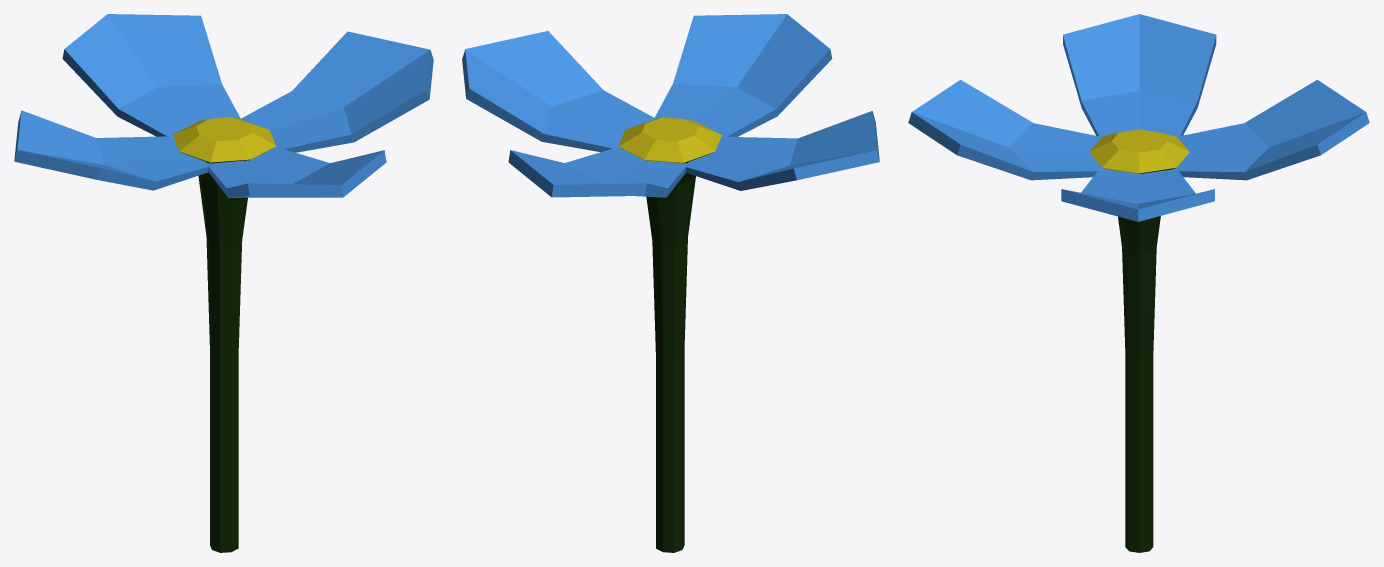
Rendered from flower1.fbx.
3 renders of one model, left to right at view 1: azimuth 30°, elevation 25°; view 2: azimuth 150°, elevation 25°; view 3: azimuth 270°, elevation 25°, orthographic. The views are drawn at different scales.
Parts seen in each view (by area): view 1: Plane.001, Cube.043, Cube.044, Cube.045, Cube.046; view 2: Plane.001, Cube.046, Cube.044, Cube.045, Cube.043; view 3: Cube.045, Plane.001, Cube.046, Cube.043, Cube.044.
Part boxes in pixels (x1,y1,x2,y2): Plane.001: (172, 117, 276, 552); Cube.043: (62, 14, 240, 138); Cube.044: (241, 31, 433, 152); Cube.045: (14, 110, 208, 190); Cube.046: (207, 147, 386, 197); Plane.001: (618, 117, 721, 552); Cube.046: (653, 14, 832, 138); Cube.044: (462, 31, 654, 152); Cube.045: (686, 111, 879, 190); Cube.043: (508, 147, 687, 197); Cube.045: (1063, 14, 1216, 136); Plane.001: (1089, 129, 1189, 552); Cube.046: (908, 79, 1106, 180); Cube.043: (1171, 79, 1369, 180); Cube.044: (1061, 169, 1214, 221).
Bounding box in the file's own units: 3343 × 3414 × 3283.
